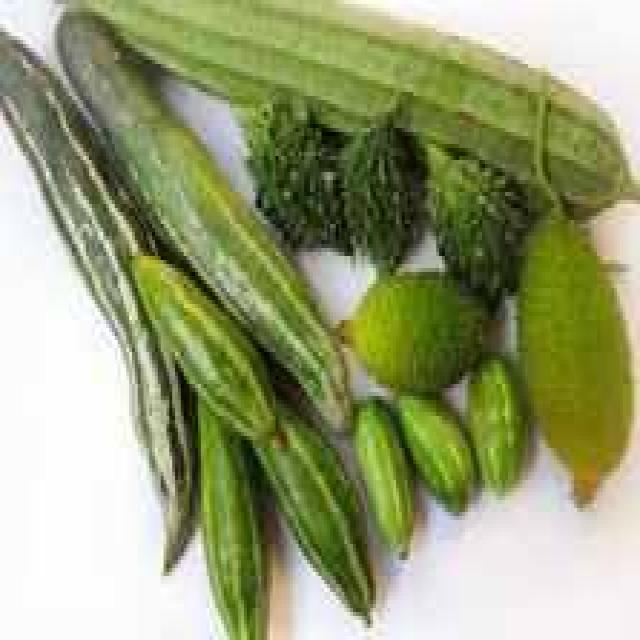organic waste: (55, 0, 637, 216), (52, 8, 344, 432), (0, 28, 195, 568), (514, 96, 631, 504), (121, 252, 281, 444), (244, 388, 373, 624), (336, 264, 494, 396), (192, 388, 273, 636), (416, 128, 525, 296), (241, 100, 339, 252), (339, 92, 413, 264), (350, 396, 413, 564), (388, 388, 473, 512), (460, 348, 522, 488)
